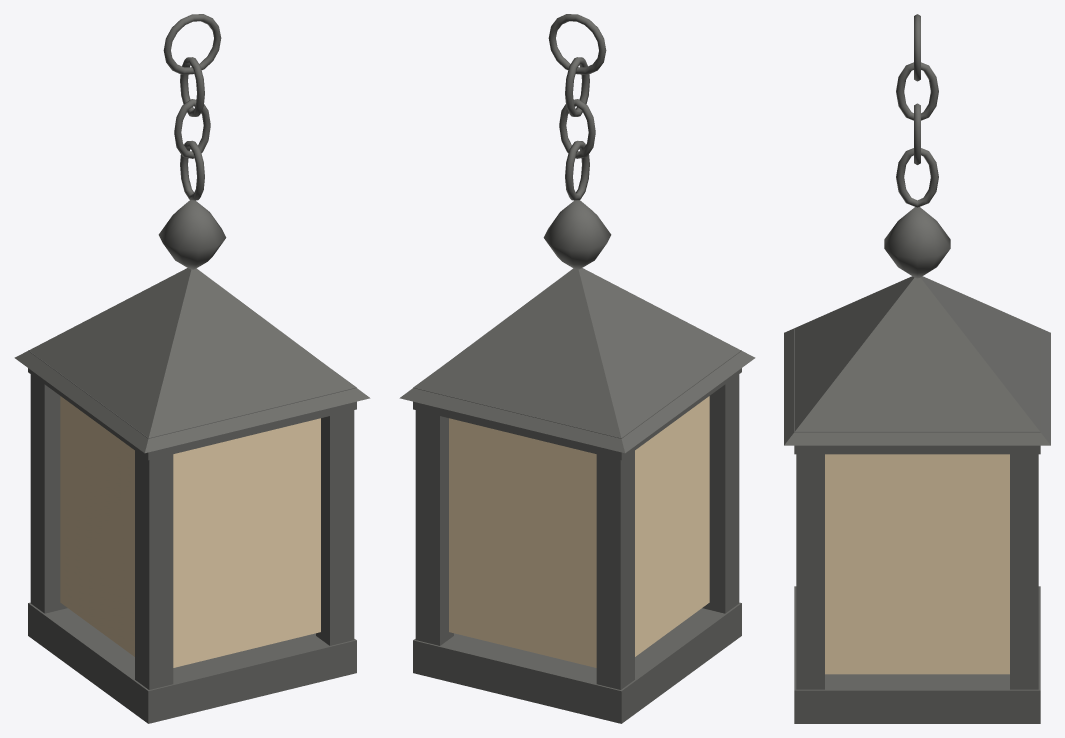
The model's file is hanglamp.glb.
3 renders of one model, left to right at view 1: azimuth 30°, elevation 25°; view 2: azimuth 150°, elevation 25°; view 3: azimuth 270°, elevation 25°, orthographic. The views are drawn at different scales.
Visible parts, largest first — view 1: Lantern | pyramid cap, Lantern | glowing y pane, Lantern | head bottom, Lantern | glowing x pane, Lantern | corner upright, Lantern | corner upright.002, Lantern | corner upright.001, Lantern | rounded finial, Lantern | head top, Hanging | mounting ring, Hanging | chain link 3, Hanging | chain link 2 (+1 smaller); view 2: Lantern | pyramid cap, Lantern | glowing y pane.001, Lantern | head bottom, Lantern | glowing x pane, Lantern | corner upright.001, Lantern | corner upright.003, Lantern | corner upright, Lantern | rounded finial, Lantern | head top, Hanging | mounting ring, Hanging | chain link 3, Hanging | chain link 2 (+1 smaller); view 3: Lantern | glowing x pane.001, Lantern | pyramid cap, Lantern | head bottom, Lantern | corner upright.002, Lantern | corner upright.003, Lantern | head top, Lantern | rounded finial, Hanging | chain link 3, Hanging | chain link 1, Hanging | mounting ring.
Boxes of the visible parts, left/top/right/bottom form: Lantern | pyramid cap: left=14, top=268, right=370, bottom=453; Lantern | glowing y pane: left=173, top=418, right=320, bottom=667; Lantern | head bottom: left=28, top=602, right=356, bottom=723; Lantern | glowing x pane: left=60, top=396, right=134, bottom=656; Lantern | corner upright: left=135, top=451, right=173, bottom=689; Lantern | corner upright.002: left=316, top=410, right=354, bottom=645; Lantern | corner upright.001: left=30, top=374, right=67, bottom=613; Lantern | rounded finial: left=158, top=200, right=226, bottom=269; Lantern | head top: left=28, top=350, right=356, bottom=460; Hanging | mounting ring: left=163, top=14, right=221, bottom=74; Hanging | chain link 3: left=180, top=140, right=204, bottom=200; Hanging | chain link 2: left=174, top=99, right=210, bottom=158; Lantern | pyramid cap: left=399, top=268, right=755, bottom=453; Lantern | glowing y pane.001: left=449, top=418, right=596, bottom=667; Lantern | head bottom: left=413, top=602, right=741, bottom=723; Lantern | glowing x pane: left=635, top=396, right=709, bottom=656; Lantern | corner upright.001: left=596, top=451, right=634, bottom=689; Lantern | corner upright.003: left=415, top=410, right=453, bottom=645; Lantern | corner upright: left=702, top=374, right=739, bottom=613; Lantern | rounded finial: left=543, top=200, right=611, bottom=269; Lantern | head top: left=413, top=350, right=741, bottom=460; Hanging | mounting ring: left=548, top=14, right=606, bottom=74; Hanging | chain link 3: left=565, top=140, right=589, bottom=200; Hanging | chain link 2: left=559, top=99, right=595, bottom=158; Lantern | glowing x pane.001: left=825, top=454, right=1009, bottom=674; Lantern | pyramid cap: left=784, top=276, right=1050, bottom=445; Lantern | head bottom: left=794, top=586, right=1040, bottom=723; Lantern | corner upright.002: left=796, top=454, right=824, bottom=689; Lantern | corner upright.003: left=1010, top=454, right=1038, bottom=689; Lantern | head top: left=794, top=328, right=1040, bottom=454; Lantern | rounded finial: left=884, top=207, right=950, bottom=278; Hanging | chain link 3: left=896, top=148, right=938, bottom=207; Hanging | chain link 1: left=896, top=62, right=938, bottom=120; Hanging | mounting ring: left=914, top=14, right=920, bottom=81.
Size of the model in its own units: 0.13 by 0.37 by 0.13.
